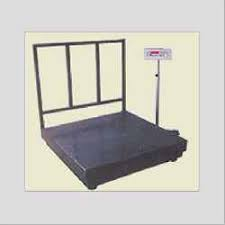Industrial Scale: (32, 38, 188, 191)
